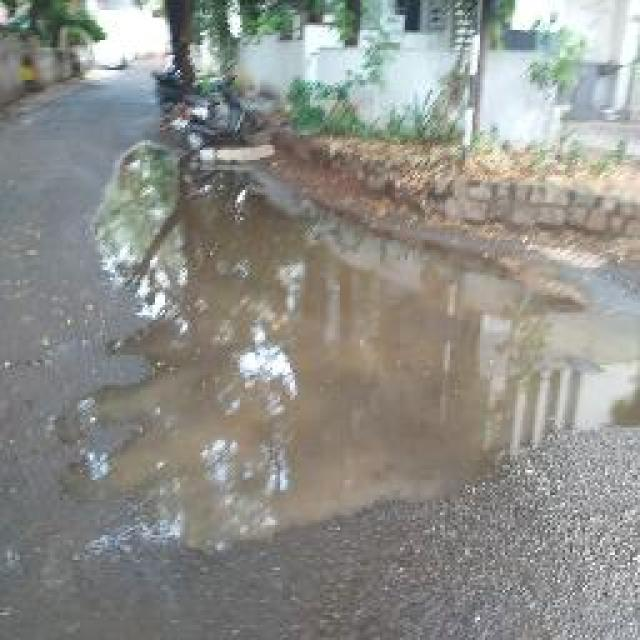puddle: (117, 232, 640, 540)
